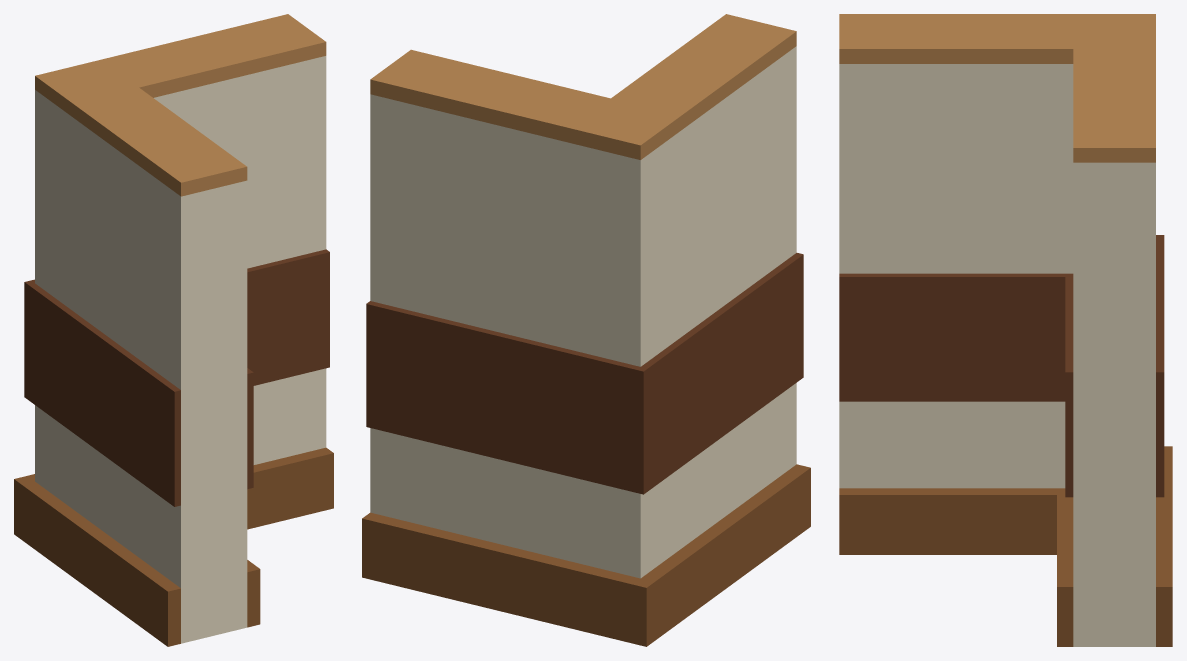
The model's file is partition-full-elbow.glb.
3 views of the same model, side by side, from view 1: azimuth 30°, elevation 25°; view 2: azimuth 150°, elevation 25°; view 3: azimuth 270°, elevation 25° (orthographic). The views are drawn at different scales.
Visible parts, largest first — view 1: partition-full-elbow; view 2: partition-full-elbow; view 3: partition-full-elbow.
Boxes of the visible parts, <box> form: partition-full-elbow: <box>14,14,333,646</box>; partition-full-elbow: <box>362,14,810,646</box>; partition-full-elbow: <box>839,14,1172,646</box>.
Bounding box in the file's own units: 0.605 × 1 × 0.605.
1 material, 1 textured.
